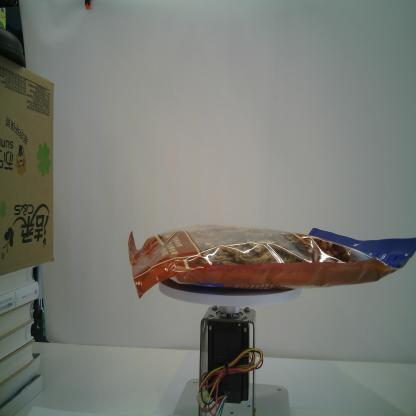Dried Food: (124, 224, 416, 300)
